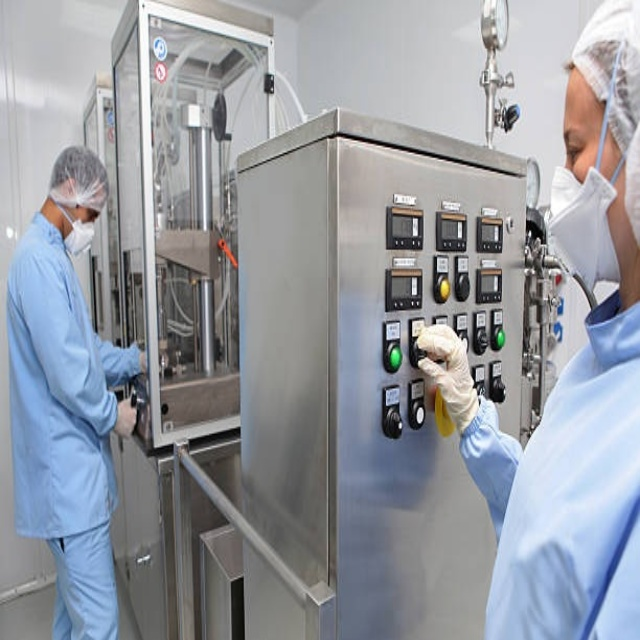Guantes: (413, 319, 481, 430), (112, 389, 140, 446)
Mascara: (548, 160, 624, 295), (59, 199, 96, 256)
Sin_gafas: (557, 97, 598, 167)
